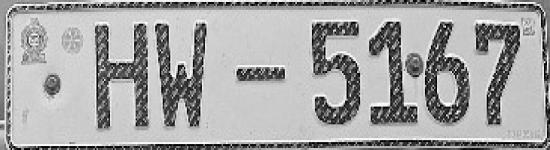-: (234, 55, 297, 91)
1: (364, 14, 423, 134)
5: (304, 13, 366, 131)
6: (424, 15, 472, 134)
7: (474, 11, 523, 137)
H: (89, 16, 153, 132)
W: (153, 13, 217, 139)
